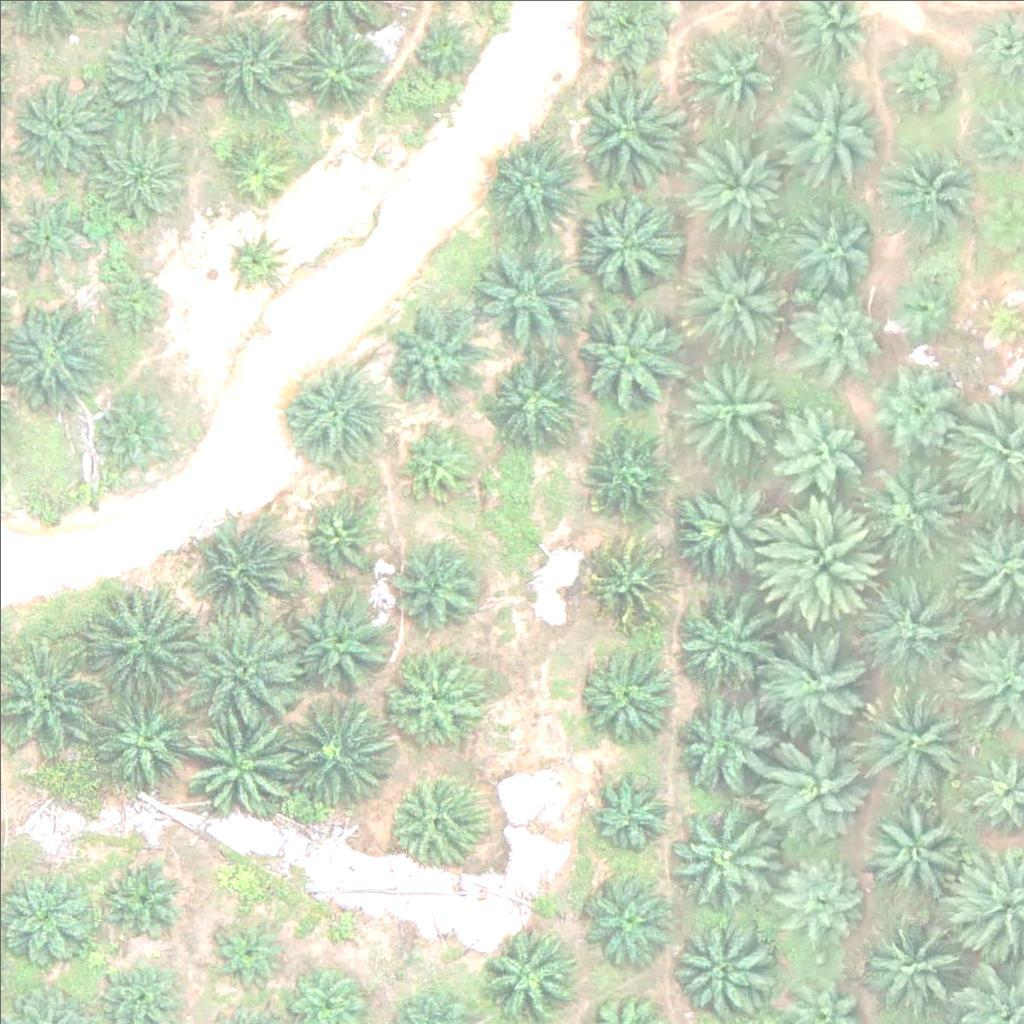Kelapa_Sawit: (751, 496, 876, 622), (89, 584, 202, 698), (761, 630, 874, 744), (860, 901, 973, 1015), (100, 16, 213, 129), (472, 243, 585, 356), (571, 299, 684, 412), (567, 188, 680, 301), (859, 683, 972, 796), (855, 571, 968, 684), (282, 689, 395, 802), (667, 800, 780, 913), (754, 725, 867, 838), (182, 610, 294, 723), (569, 76, 681, 189), (183, 706, 295, 819), (294, 592, 394, 693), (11, 72, 111, 173), (203, 6, 303, 107), (288, 15, 388, 116), (486, 134, 586, 235), (574, 650, 674, 751), (667, 591, 767, 692), (681, 354, 781, 455), (686, 242, 786, 343), (690, 134, 790, 235), (864, 462, 964, 563), (862, 361, 962, 462), (95, 691, 195, 792), (479, 920, 579, 1021), (861, 798, 961, 899), (871, 147, 971, 248), (196, 518, 296, 618), (286, 358, 386, 458), (88, 125, 188, 225), (383, 650, 483, 750), (380, 305, 480, 405), (672, 685, 772, 785), (682, 485, 782, 585), (779, 83, 879, 183), (385, 765, 485, 865), (577, 865, 677, 965), (95, 383, 183, 471), (398, 545, 486, 633), (487, 350, 575, 438), (587, 539, 675, 627), (794, 287, 882, 375), (97, 850, 185, 938), (588, 770, 676, 858), (792, 199, 879, 288), (585, 431, 672, 519), (685, 29, 772, 117), (777, 407, 864, 495), (771, 851, 858, 939), (888, 266, 963, 342), (209, 919, 284, 995), (399, 426, 474, 502), (881, 45, 956, 120), (304, 501, 379, 576), (96, 265, 171, 340), (220, 127, 295, 202), (405, 3, 480, 78), (223, 226, 286, 289)
